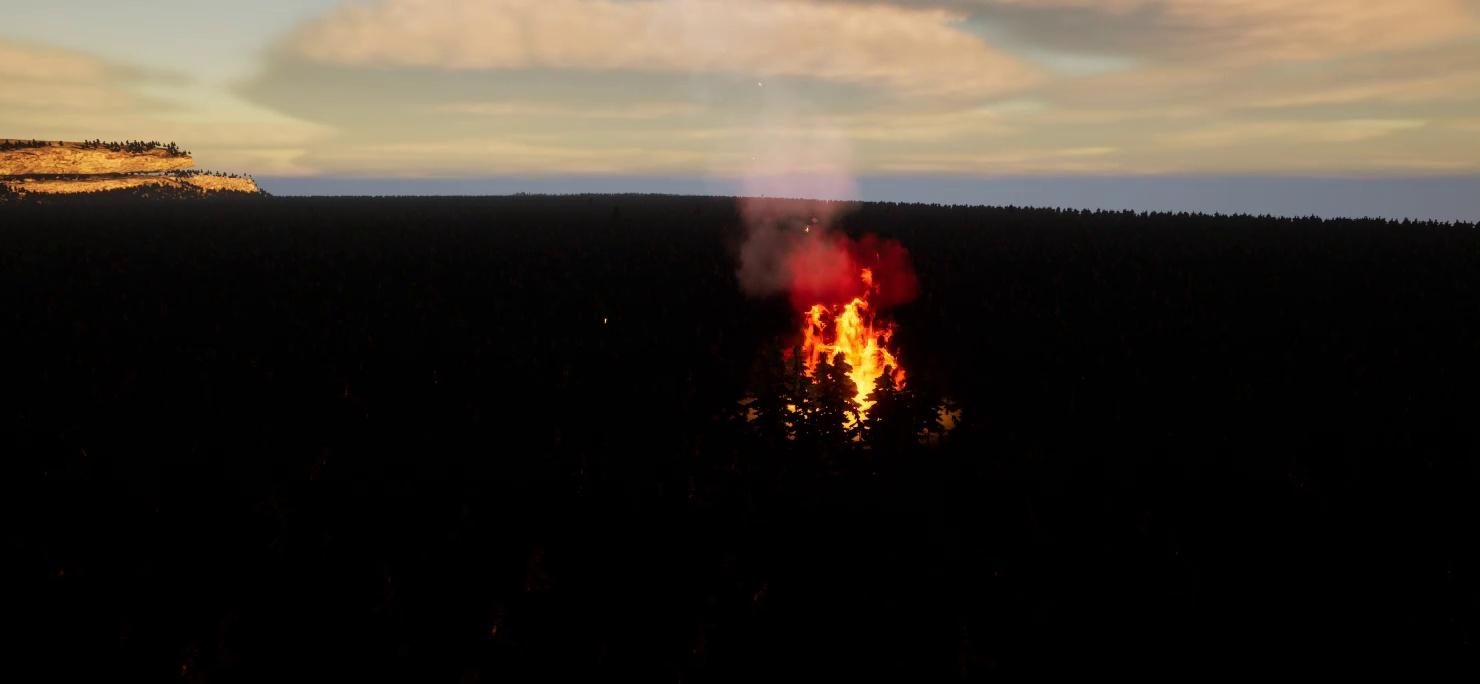fire: (789, 284, 930, 427)
smoke: (721, 142, 913, 316)
